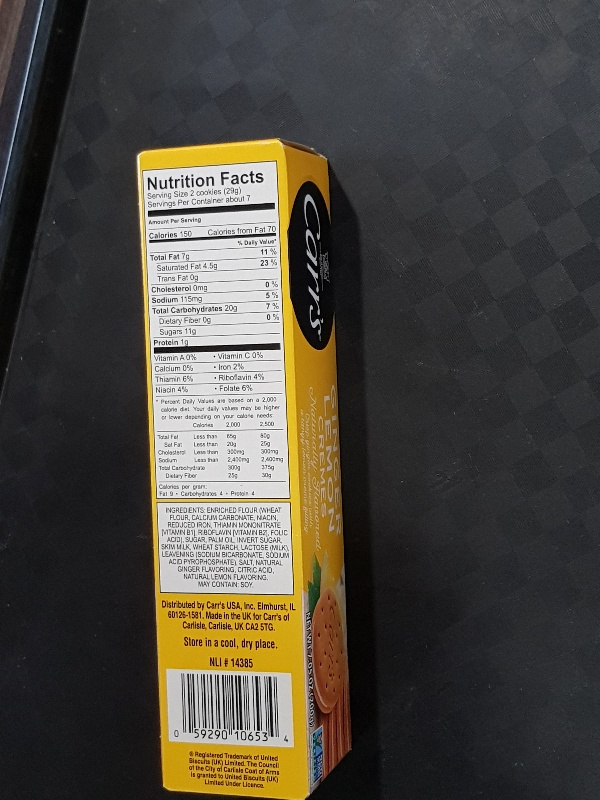Carr's Ginger Lemon Cremes: (132, 136, 354, 800)
